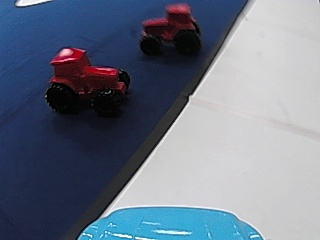tractor: (42, 44, 131, 117), (137, 4, 205, 56)
